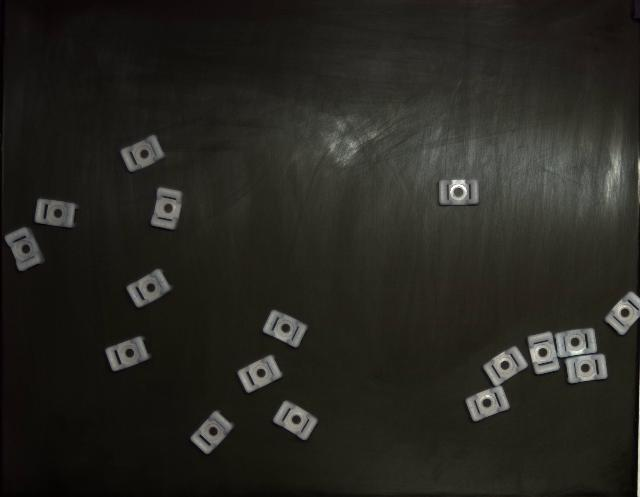first_side: (190, 411, 234, 455), (126, 269, 172, 308), (274, 401, 318, 441), (484, 346, 528, 386), (262, 310, 308, 348), (5, 228, 45, 271), (238, 355, 282, 394), (121, 135, 165, 172), (105, 336, 150, 372), (465, 386, 510, 422), (604, 292, 640, 335), (528, 332, 560, 375), (35, 199, 79, 229), (151, 188, 182, 230), (565, 354, 608, 384), (555, 329, 598, 358), (439, 180, 479, 206)
